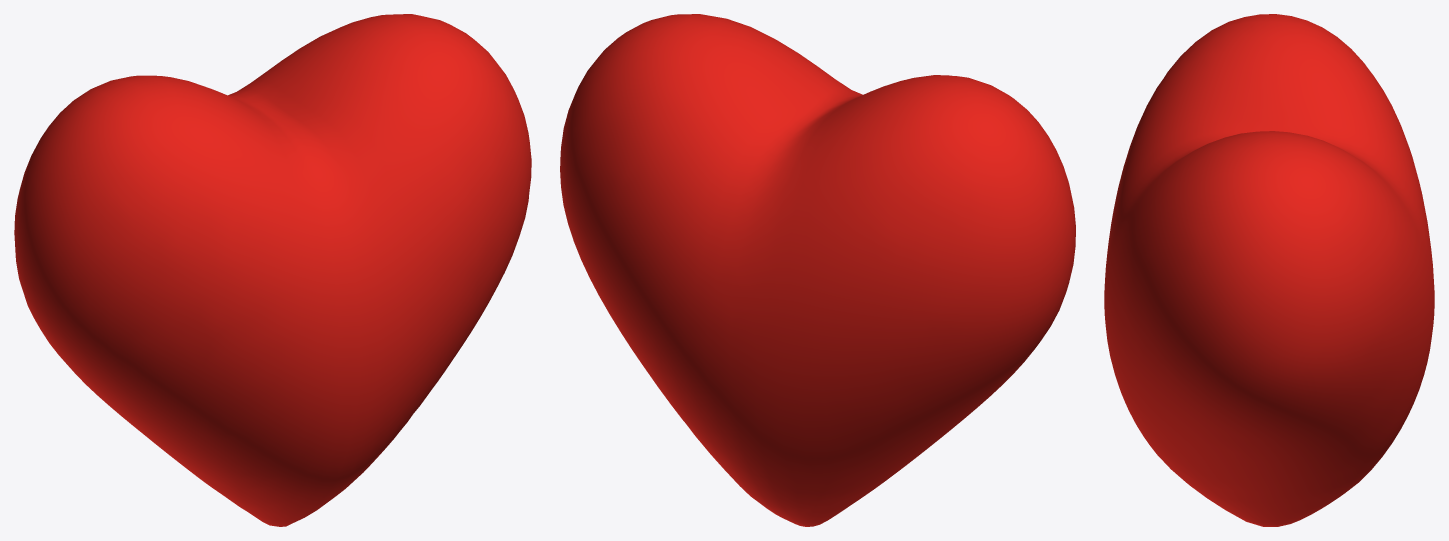
Rendered from kalp.glb.
3 views of the same model, side by side, from view 1: azimuth 30°, elevation 25°; view 2: azimuth 150°, elevation 25°; view 3: azimuth 270°, elevation 25° (orthographic). The views are drawn at different scales.
Visible parts, largest first — view 1: heart1.1; view 2: heart1.1; view 3: heart1.1.
Part boxes in pixels (x1=…): heart1.1: x1=14, y1=14, x2=531, y2=526; heart1.1: x1=560, y1=14, x2=1075, y2=526; heart1.1: x1=1104, y1=14, x2=1434, y2=526.
Bounding box in the file's own units: 1.48 × 1.37 × 0.9252.
1 material, 1 textured.
